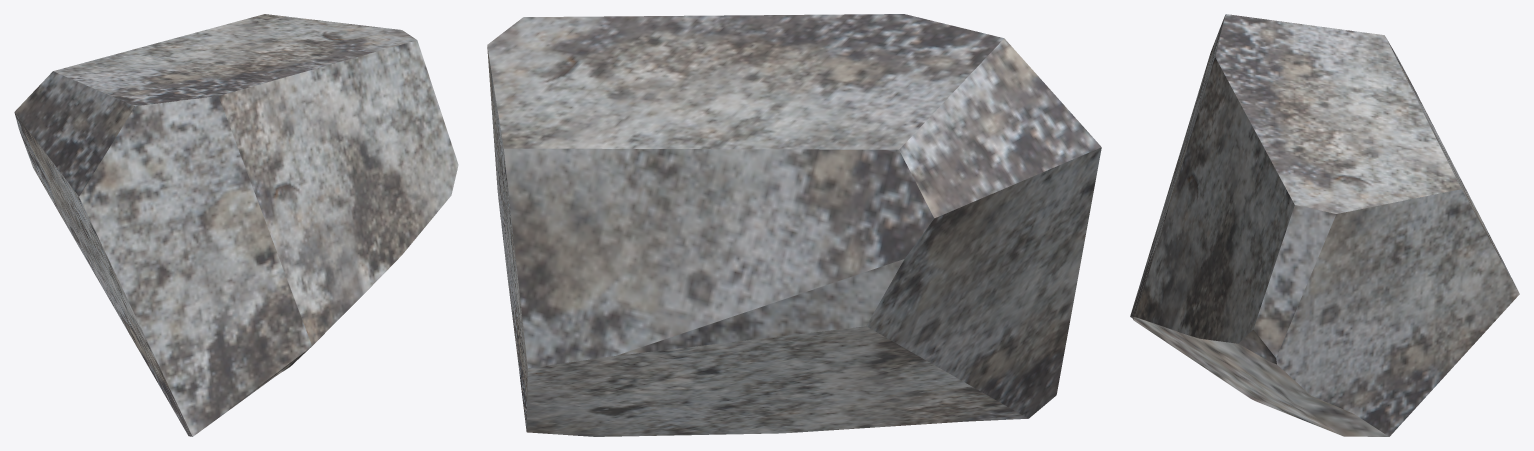
Rendered from Asteroid_Large_001_02_001_03_015.fbx.
3 renders of one model, left to right at view 1: azimuth 30°, elevation 25°; view 2: azimuth 150°, elevation 25°; view 3: azimuth 270°, elevation 25°, orthographic. The views are drawn at different scales.
Visible parts, largest first — view 1: Asteroid_Large_001_02_001_03_015; view 2: Asteroid_Large_001_02_001_03_015; view 3: Asteroid_Large_001_02_001_03_015.
Part boxes in pixels (<box>): Asteroid_Large_001_02_001_03_015: <box>14,14,458,436</box>; Asteroid_Large_001_02_001_03_015: <box>487,14,1101,436</box>; Asteroid_Large_001_02_001_03_015: <box>1130,14,1519,436</box>.
Size of the model in its own units: 9.05 by 6.65 by 7.48.
